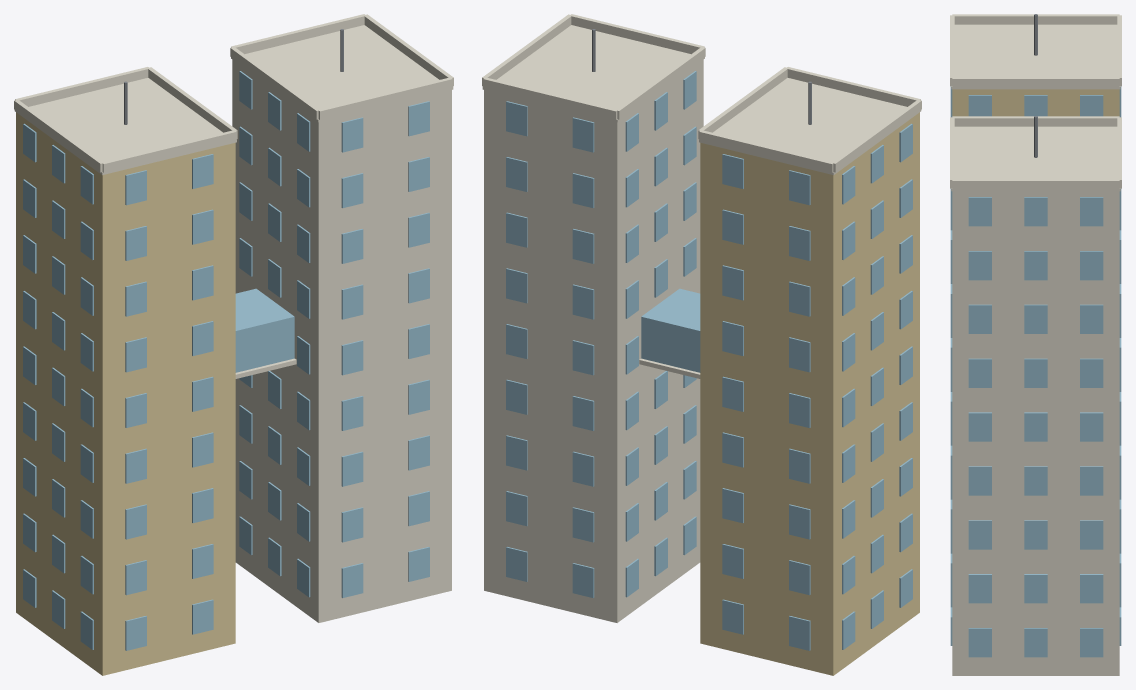
Rendered from building.skyscraper-twin.glb.
3 views of the same model, side by side, from view 1: azimuth 30°, elevation 25°; view 2: azimuth 150°, elevation 25°; view 3: azimuth 270°, elevation 25° (orthographic). The views are drawn at different scales.
Visible parts, largest first — view 1: building.skyscraper-twin; view 2: building.skyscraper-twin; view 3: building.skyscraper-twin.
Part boxes in pixels (x1=…): building.skyscraper-twin: x1=14, y1=14, x2=453, y2=675; building.skyscraper-twin: x1=482, y1=14, x2=921, y2=675; building.skyscraper-twin: x1=950, y1=14, x2=1121, y2=675.
Bounding box in the file's own units: 21.25 × 31.35 × 9.25.
